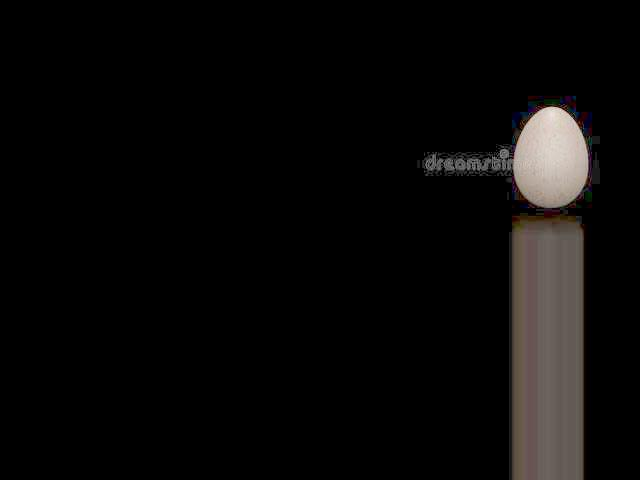egg: (514, 106, 588, 208)
